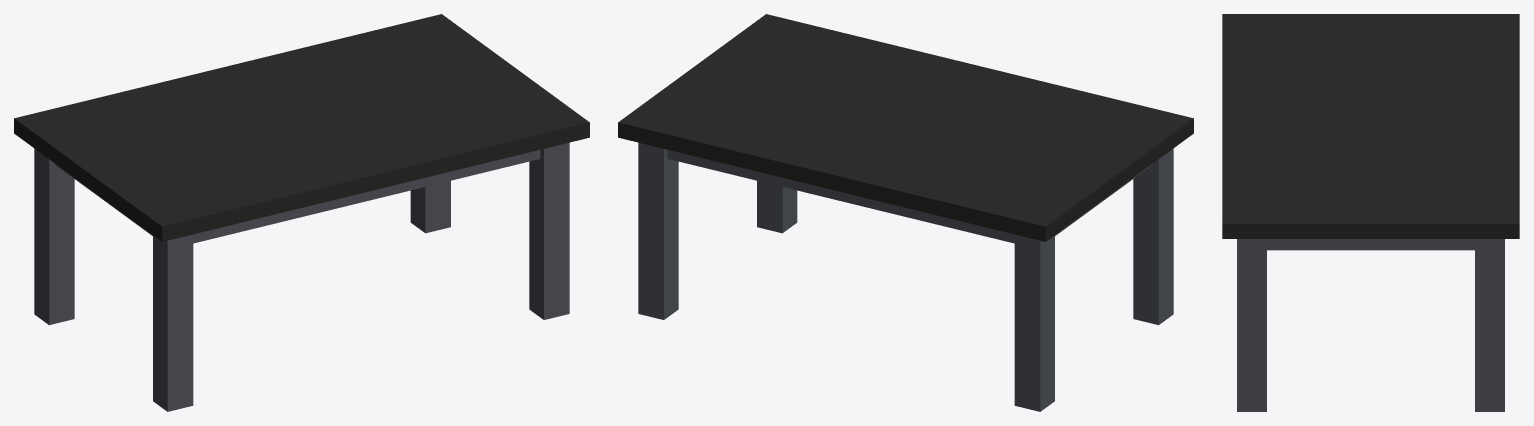
The model's file is Table_1C.fbx.
The picture shows the model from 3 angles, left to right: view 1: azimuth 30°, elevation 25°; view 2: azimuth 150°, elevation 25°; view 3: azimuth 270°, elevation 25°; orthographic projection.
Parts seen in each view (by area): view 1: polySurface1728; view 2: polySurface1728; view 3: polySurface1728.
Part boxes in pixels (x1,y1,x2,y2): polySurface1728: (14, 14, 589, 411); polySurface1728: (618, 14, 1193, 411); polySurface1728: (1222, 14, 1519, 411).
Size of the model in its own units: 2.5 by 1.08 by 1.5.
1 material, 1 textured.
